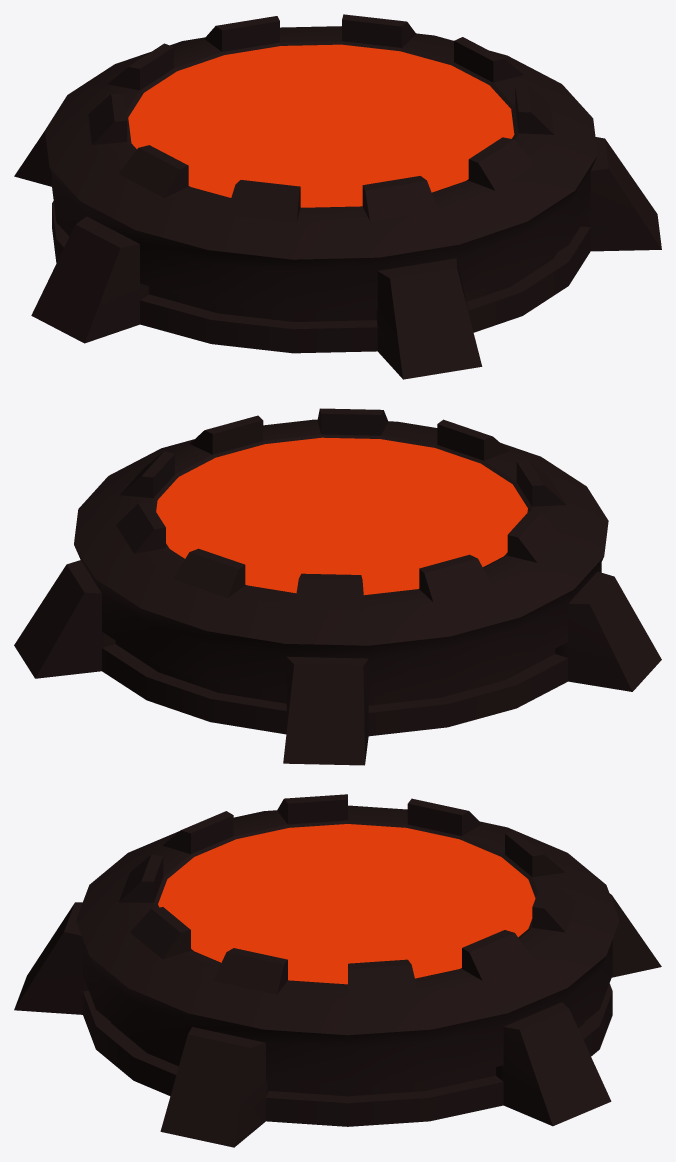
File: teleporter2.fbx
3 views of the same model, one above another, from view 1: azimuth 30°, elevation 25°; view 2: azimuth 150°, elevation 25°; view 3: azimuth 270°, elevation 25° (orthographic). The views are drawn at different scales.
Parts seen in each view (by area): view 1: Teleporter; view 2: Teleporter; view 3: Teleporter.
Boxes of the visible parts, x1=… form: Teleporter: x1=14, y1=14, x2=661, y2=379; Teleporter: x1=14, y1=408, x2=661, y2=765; Teleporter: x1=14, y1=794, x2=661, y2=1147.
Bounding box in the file's own units: 245 × 55.54 × 245.
